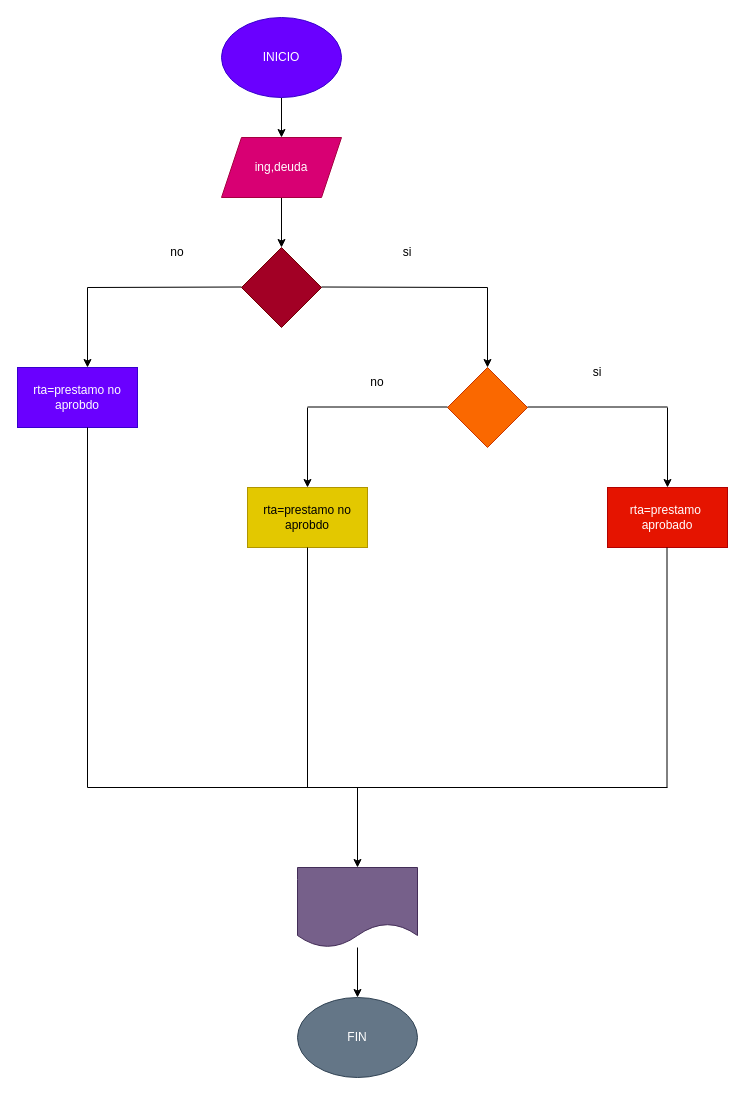
The diagram is 745 pixels wide and 1095 high, and some of its shapes have lost their labels. Here are the shapes that lost their labels. From the top down, the centre of each, then its label:
[281,287]: ing>945200
[487,407]: deuda==0
[357,907]: rta
